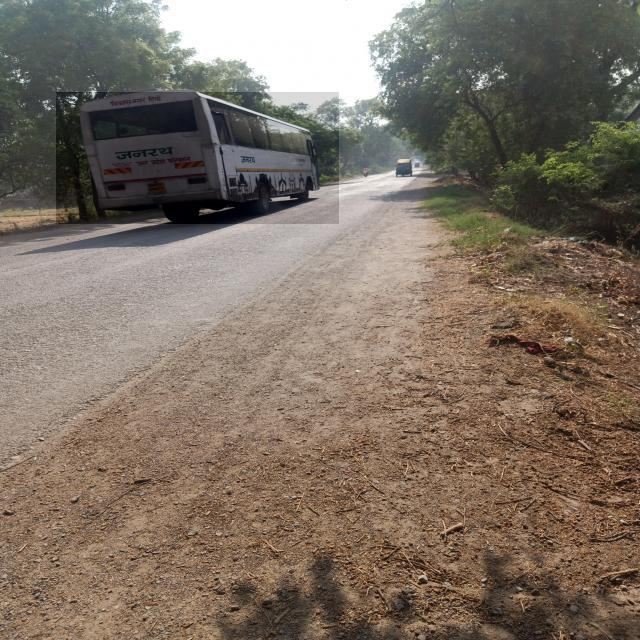Bus: (56, 92, 339, 224)
